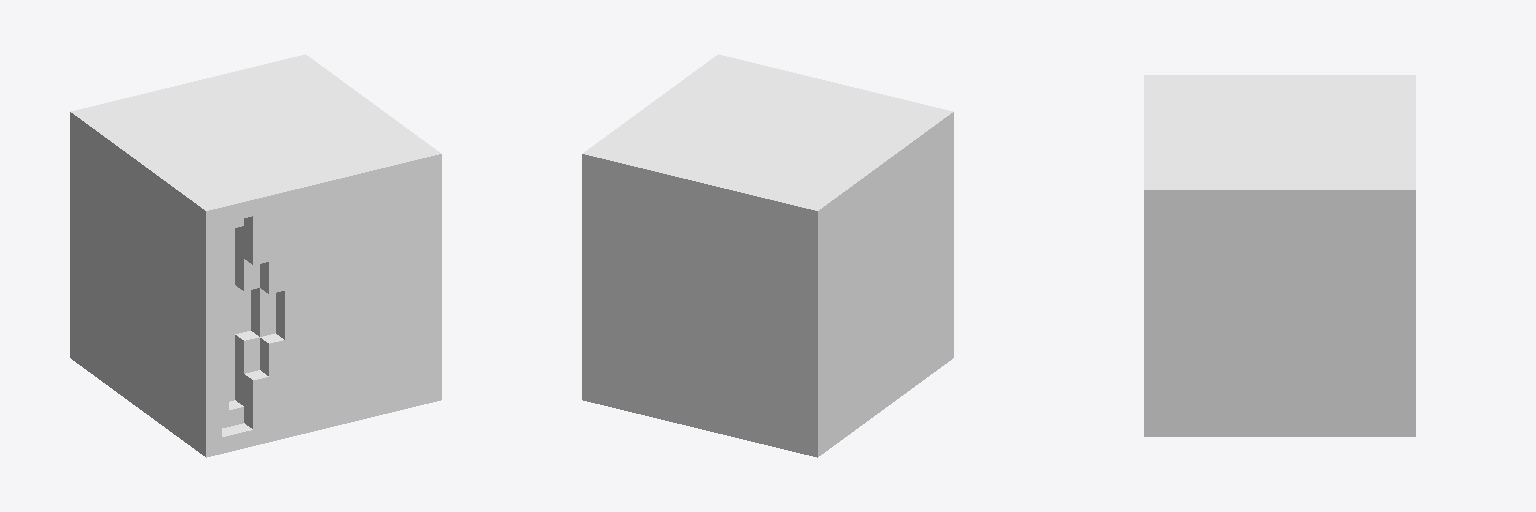
Rendered from edge_in_cube.obj.
3 renders of one model, left to right at view 1: azimuth 30°, elevation 25°; view 2: azimuth 150°, elevation 25°; view 3: azimuth 270°, elevation 25°, orthographic.
Visible parts, largest first — view 1: object 1; view 2: object 1; view 3: object 1.
Boxes of the visible parts, x1,y1,x2,y2 form: object 1: [70, 54, 441, 457]; object 1: [582, 54, 953, 457]; object 1: [1144, 75, 1415, 436].
Bounding box in the file's own units: 1.5 × 1.5 × 1.5.